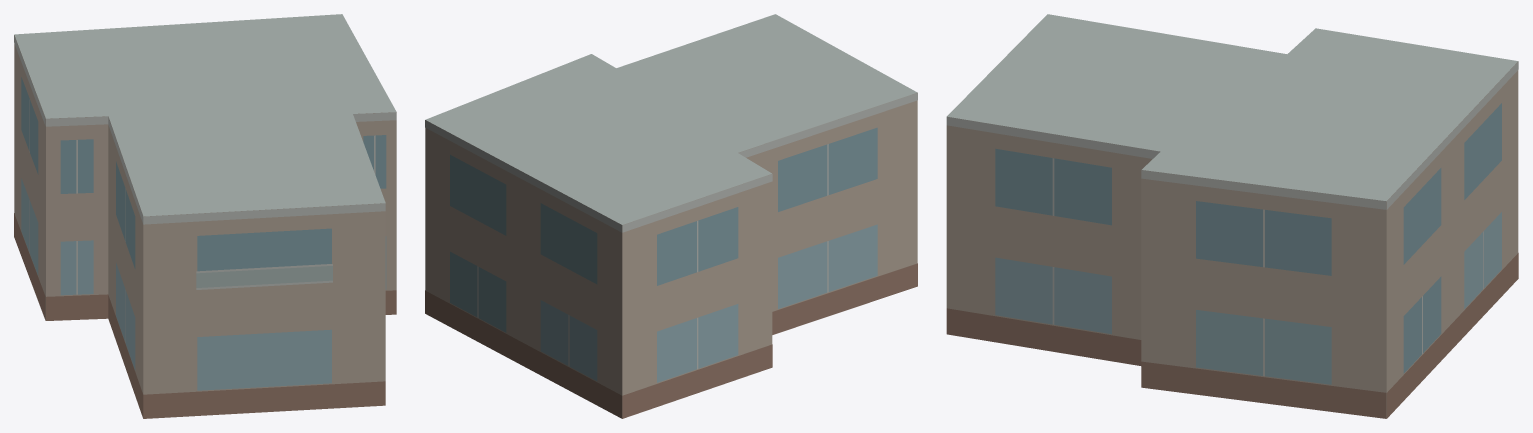
File: survey-upis-32668694.glb
The picture shows the model from 3 angles, left to right: view 1: azimuth 30°, elevation 25°; view 2: azimuth 150°, elevation 25°; view 3: azimuth 270°, elevation 25°; orthographic projection. The views are drawn at different scales.
Visible parts, largest first — view 1: survey-upis-32668694.tmp; view 2: survey-upis-32668694.tmp; view 3: survey-upis-32668694.tmp.
Part boxes in pixels (x1,y1,x2,y2): survey-upis-32668694.tmp: (14,14,396,418); survey-upis-32668694.tmp: (425,14,917,418); survey-upis-32668694.tmp: (946,14,1518,418).
Size of the model in its own units: 11.26 by 6.1 by 14.53.
